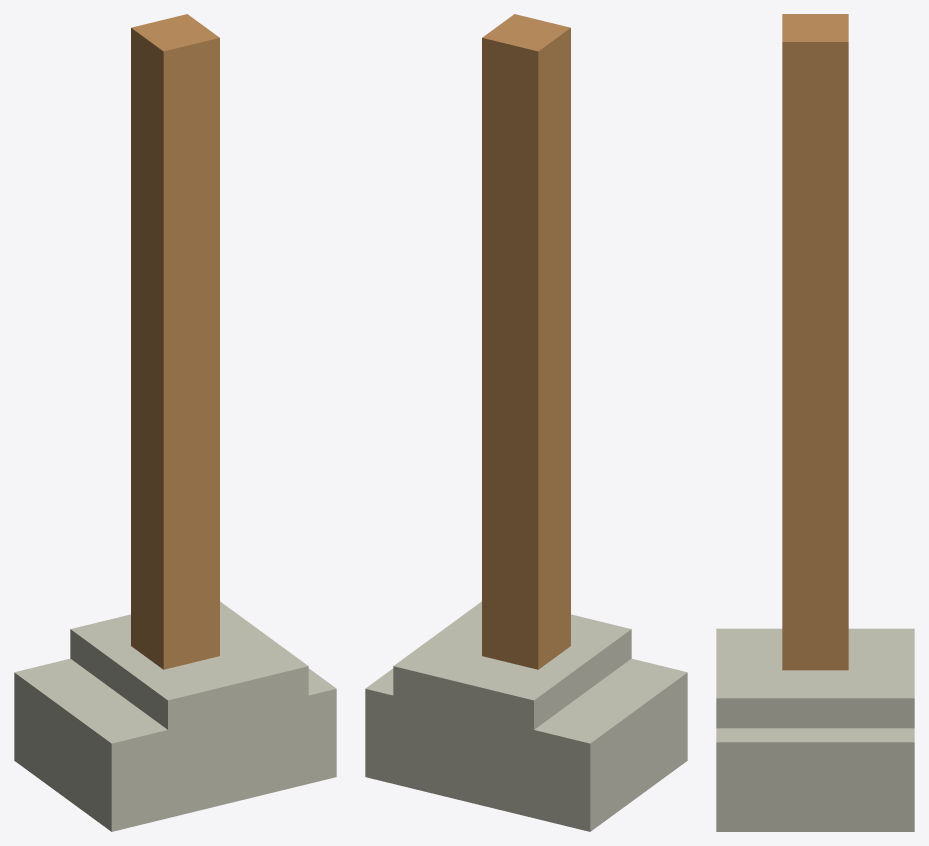
Rendered from item_trapeador.obj.
The picture shows the model from 3 angles, left to right: view 1: azimuth 30°, elevation 25°; view 2: azimuth 150°, elevation 25°; view 3: azimuth 270°, elevation 25°; orthographic projection.
Visible parts, largest first — view 1: palo, mecha; view 2: palo, mecha; view 3: palo, mecha.
Boxes of the visible parts, x1,y1,x2,y2 form: palo: [131, 14, 219, 669]; mecha: [14, 601, 336, 831]; palo: [482, 14, 570, 669]; mecha: [365, 601, 687, 831]; palo: [782, 14, 848, 670]; mecha: [716, 628, 914, 831].
Bounding box in the file's own units: 0.4 × 1.25 × 0.3.
